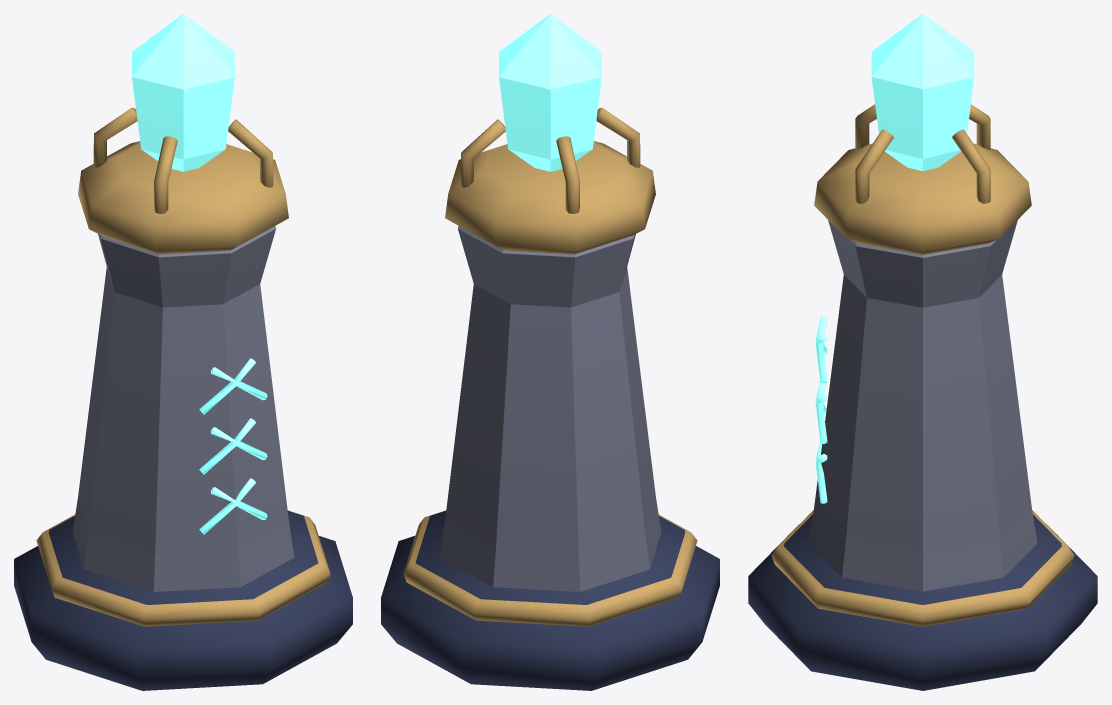
File: relic_waystone.glb
3 renders of one model, left to right at view 1: azimuth 30°, elevation 25°; view 2: azimuth 150°, elevation 25°; view 3: azimuth 270°, elevation 25°, orthographic.
Visible parts, largest first — view 1: relic_waystone; view 2: relic_waystone; view 3: relic_waystone.
Part boxes in pixels (box(x1,y1,x2,y2)): relic_waystone: box(14, 14, 352, 690); relic_waystone: box(381, 14, 719, 690); relic_waystone: box(748, 14, 1097, 690).
Bounding box in the file's own units: 1.06 × 2.04 × 1.06.
